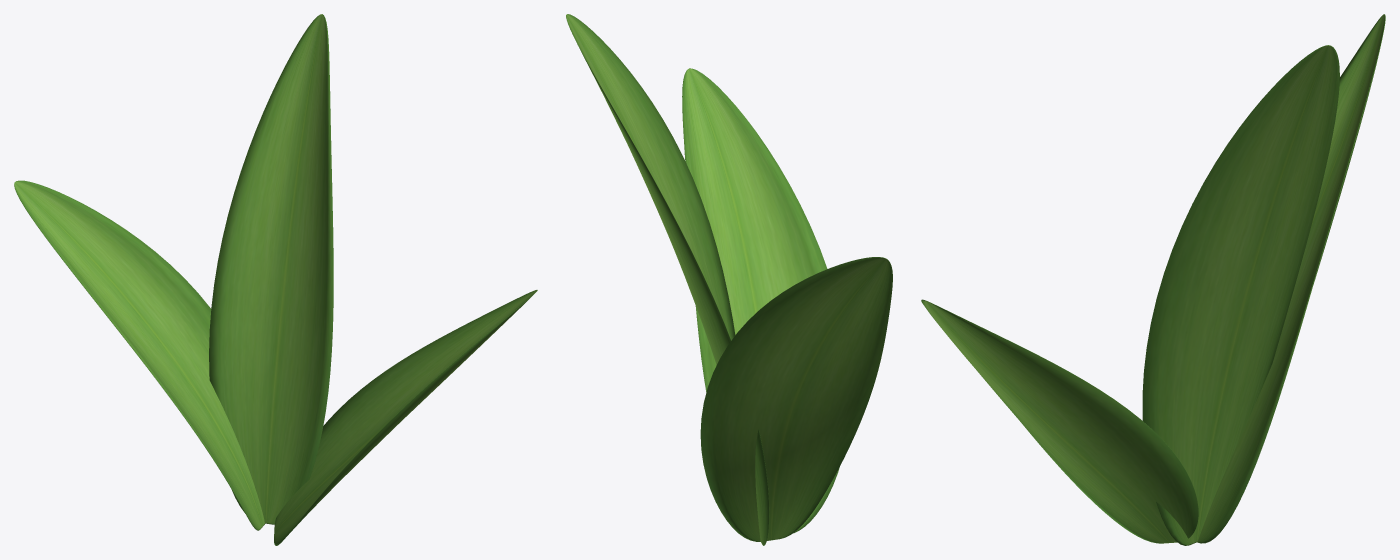
File: NP_Tulip_Young.fbx
The picture shows the model from 3 angles, left to right: view 1: azimuth 30°, elevation 25°; view 2: azimuth 150°, elevation 25°; view 3: azimuth 270°, elevation 25°; orthographic projection. The views are drawn at different scales.
Visible parts, largest first — view 1: NP_Tulip_Young; view 2: NP_Tulip_Young; view 3: NP_Tulip_Young.
Part boxes in pixels (bbox=[...]): NP_Tulip_Young: bbox=[14, 14, 537, 545]; NP_Tulip_Young: bbox=[566, 14, 892, 545]; NP_Tulip_Young: bbox=[921, 14, 1385, 545].
Bounding box in the file's own units: 45.29 × 56.4 × 41.65.
